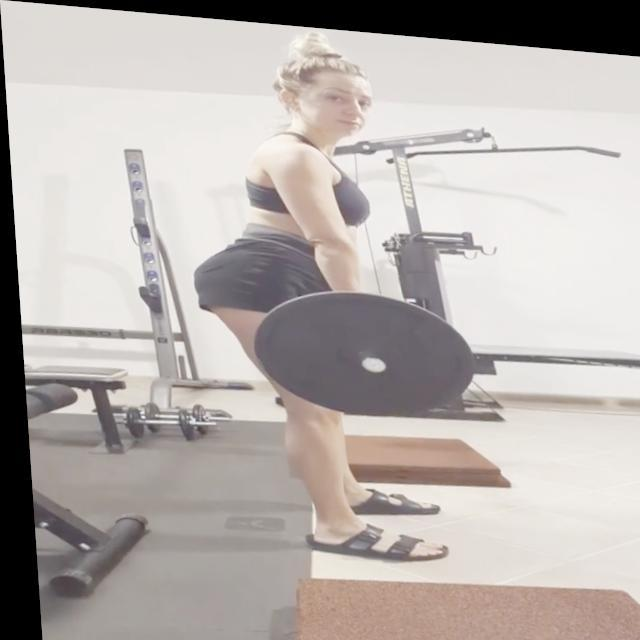barbell: (241, 274, 479, 422)
